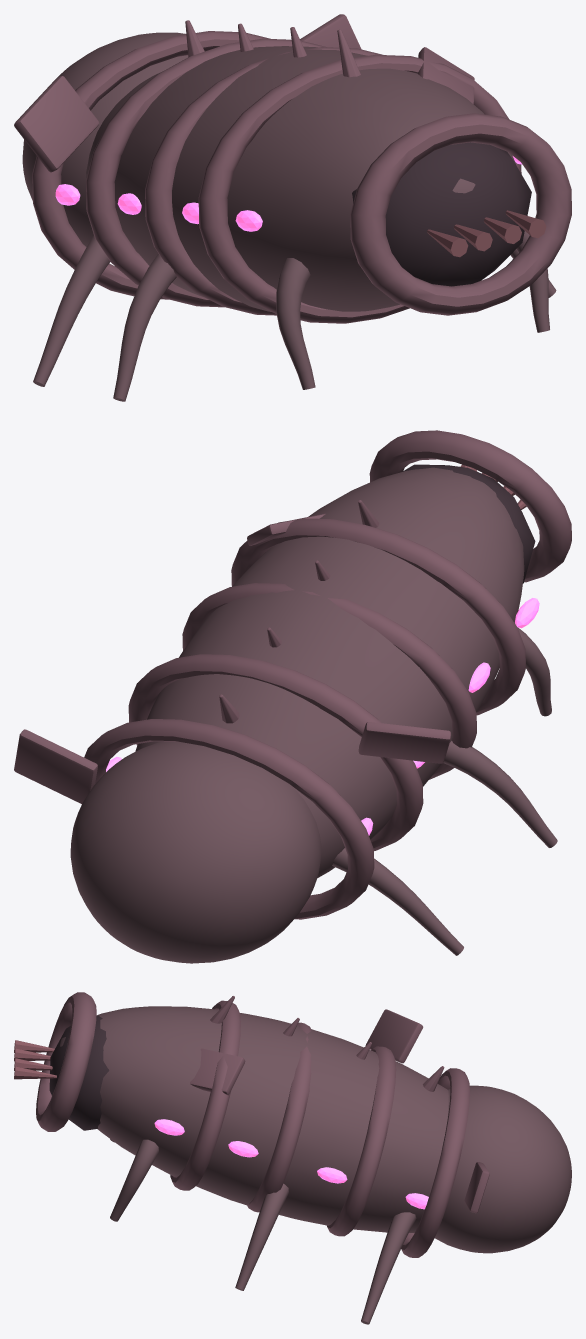
Rendered from hive_ship.glb.
The picture shows the model from 3 angles, top to bottom: view 1: azimuth 30°, elevation 25°; view 2: azimuth 150°, elevation 25°; view 3: azimuth 270°, elevation 25°; orthographic projection. The views are drawn at different scales.
Parts seen in each view (by area): view 1: HiveHull, HiveLip, HiveCavity, HiveRib3, HiveRib1, HiveRib0, HiveRib2, HiveRear, HiveDebris1, HiveLeg1, HiveLeg3, HiveLeg5 (+8 smaller); view 2: HiveHull, HiveRear, HiveRib0, HiveRib1, HiveRib3, HiveLip, HiveRib2, HiveDebris0, HiveDebris1, HiveLeg3, HiveLeg1, HiveCavity (+1 smaller); view 3: HiveHull, HiveRear, HiveLip, HiveRib0, HiveRib1, HiveRib3, HiveRib2, HiveCavity, HiveLeg0, HiveDebris1, HiveLeg2, HiveDebris2 (+2 smaller).
Boxes of the visible parts, x1,y1,x2,y2 form: HiveHull: (86,46,515,311); HiveLip: (350,113,571,315); HiveCavity: (352,142,531,286); HiveRib3: (198,54,521,323); HiveRib1: (86,38,326,307); HiveRib0: (32,31,270,299); HiveRib2: (145,47,382,315); HiveRear: (22,32,188,246); HiveDebris1: (14,76,99,172); HiveLeg1: (33,235,110,386); HiveLeg3: (113,253,176,401); HiveLeg5: (276,258,315,389); HiveHull: (135,467,524,877); HiveRear: (70,741,321,963); HiveRib0: (84,719,374,919); HiveRib1: (128,654,423,850); HiveRib3: (231,518,525,715); HiveLip: (369,430,571,582); HiveRib2: (182,583,476,779); HiveDebris0: (14,729,97,803); HiveDebris1: (358,722,451,763); HiveLeg3: (443,741,557,847); HiveLeg1: (332,848,463,955); HiveCavity: (402,464,535,583); HiveHull: (60,1006,448,1232); HiveRear: (434,1085,571,1253); HiveLip: (36,992,96,1131); HiveRib0: (401,1068,469,1257); HiveRib1: (326,1046,396,1236); HiveRib3: (170,1000,240,1190); HiveRib2: (247,1022,311,1212); HiveCavity: (49,1015,109,1130); HiveLeg0: (361,1212,416,1324); HiveDebris1: (365,1009,423,1063); HiveLeg2: (235,1183,288,1290); HiveDebris2: (190,1048,245,1095).
Bounding box in the file's own units: 4.52 × 3.7 × 7.18.
